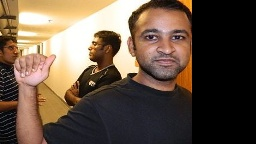Pugno: (10, 51, 56, 88)
